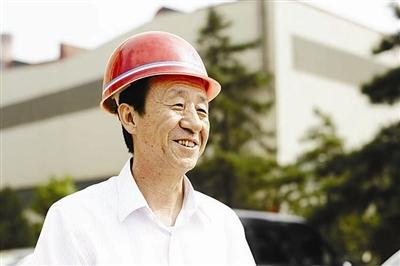helmet: (84, 27, 227, 106)
no_wear: (35, 185, 254, 266)
